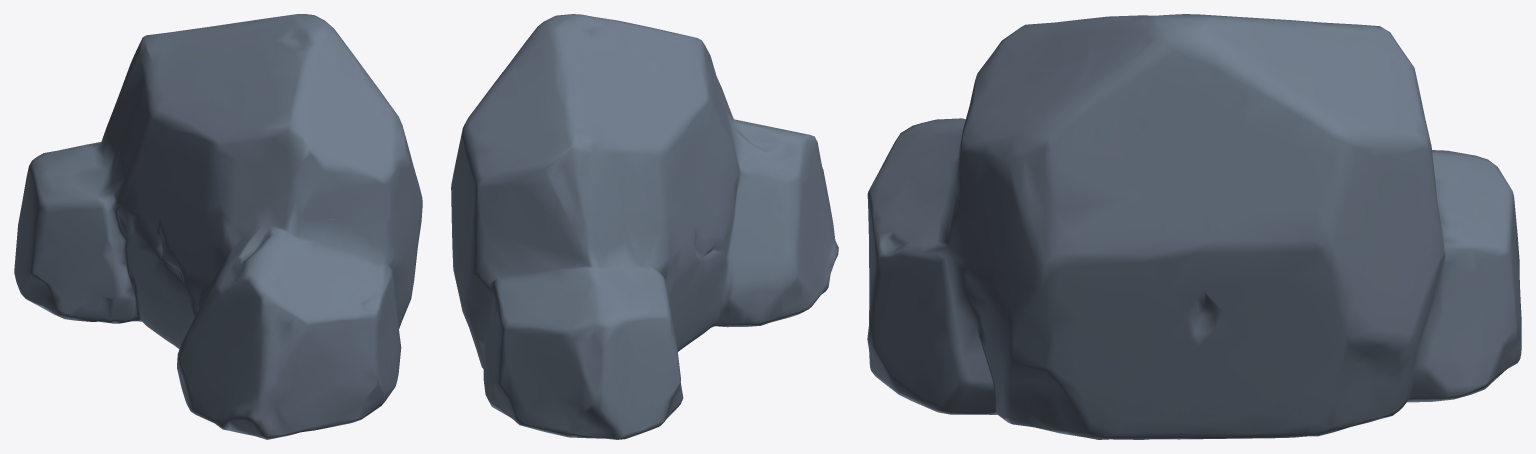
Rendered from stone-03.glb.
The picture shows the model from 3 angles, left to right: view 1: azimuth 30°, elevation 25°; view 2: azimuth 150°, elevation 25°; view 3: azimuth 270°, elevation 25°; orthographic projection. The views are drawn at different scales.
Visible parts, largest first — view 1: tripo_node_12a41bfc-7640-4435-a0b3-285c3d9b6e2d; view 2: tripo_node_12a41bfc-7640-4435-a0b3-285c3d9b6e2d; view 3: tripo_node_12a41bfc-7640-4435-a0b3-285c3d9b6e2d.
Part boxes in pixels (box(x1,y1,x2,y2)): tripo_node_12a41bfc-7640-4435-a0b3-285c3d9b6e2d: box(14, 14, 422, 439); tripo_node_12a41bfc-7640-4435-a0b3-285c3d9b6e2d: box(451, 14, 838, 439); tripo_node_12a41bfc-7640-4435-a0b3-285c3d9b6e2d: box(867, 14, 1521, 439).
Bounding box in the file's own units: 0.614 × 0.6704 × 1.
1 material, 1 textured.
